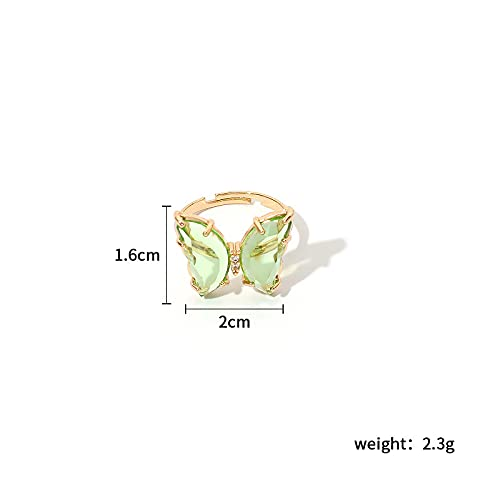2.3g: (423, 437, 455, 454)
weight:: (354, 437, 412, 454)
